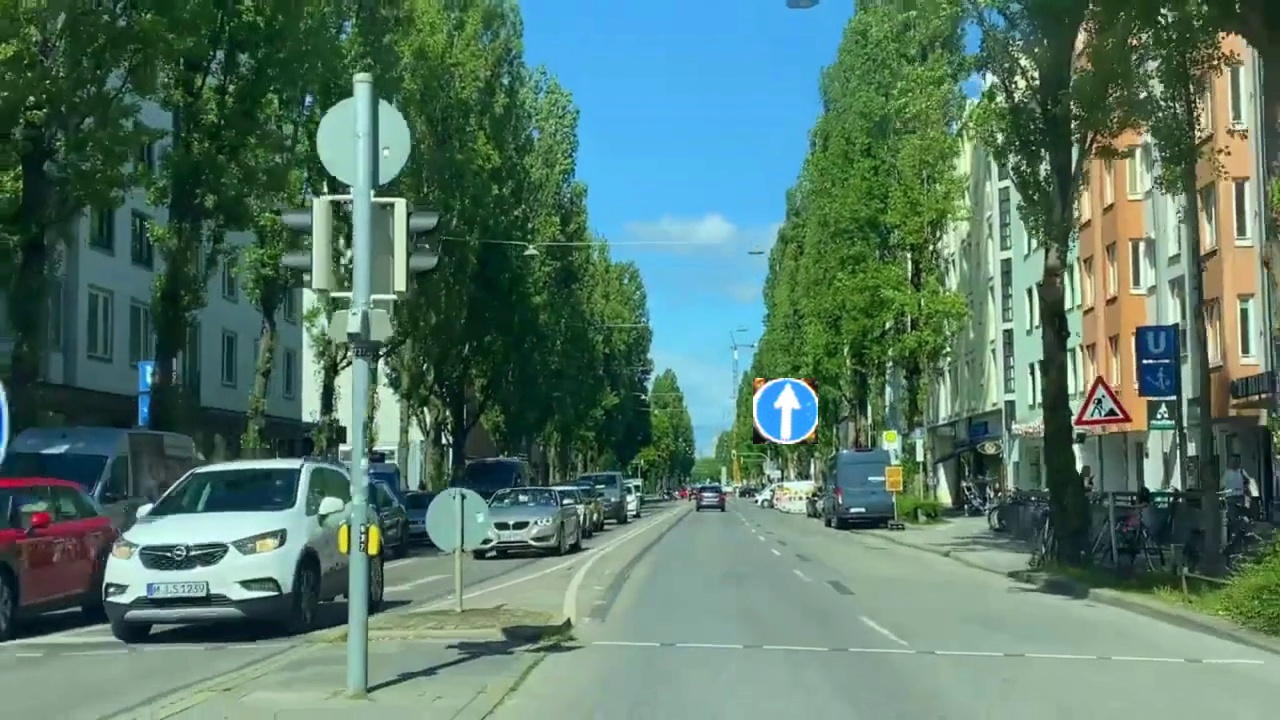Ahead only: (753, 378, 818, 444)
